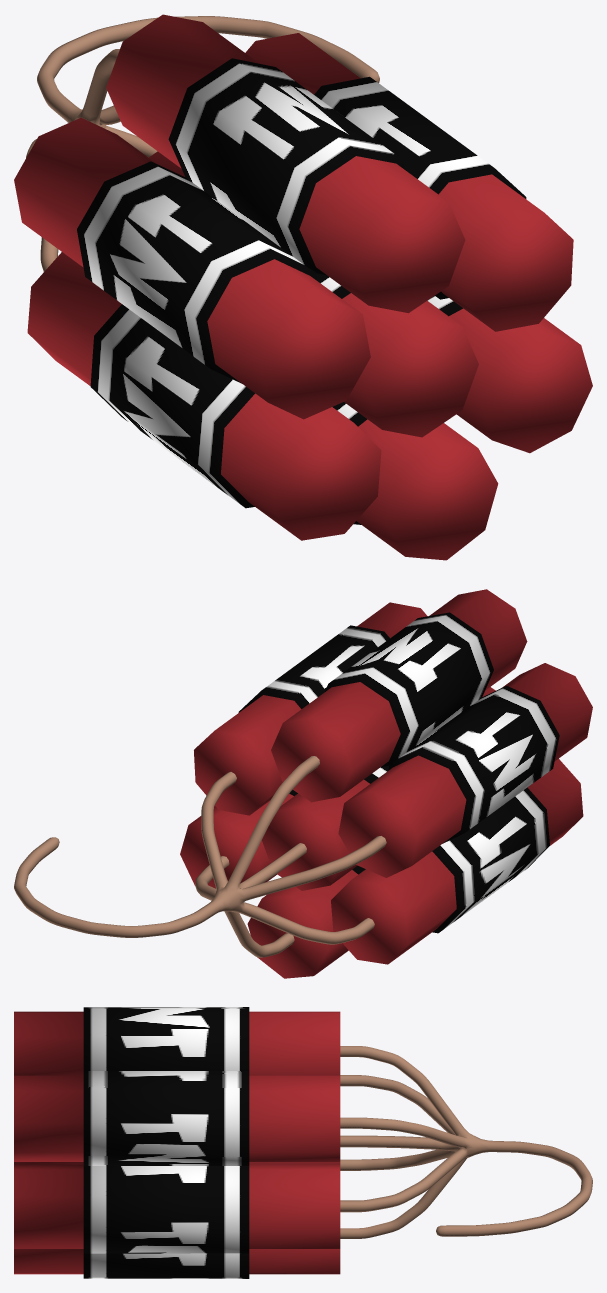
The model's file is GiftBundle.fbx.
3 renders of one model, top to bottom at view 1: azimuth 30°, elevation 25°; view 2: azimuth 150°, elevation 25°; view 3: azimuth 270°, elevation 25°, orthographic. The views are drawn at different scales.
Visible parts, largest first — view 1: TNTbundle; view 2: TNTbundle; view 3: TNTbundle.
Boxes of the visible parts, box(x1,y1,x2,y2) form: TNTbundle: box(14, 14, 592, 560); TNTbundle: box(14, 589, 592, 978); TNTbundle: box(14, 1007, 592, 1278).
Size of the model in its own units: 132 by 64.94 by 78.4.
Materials: 1 (1 with a texture image).
